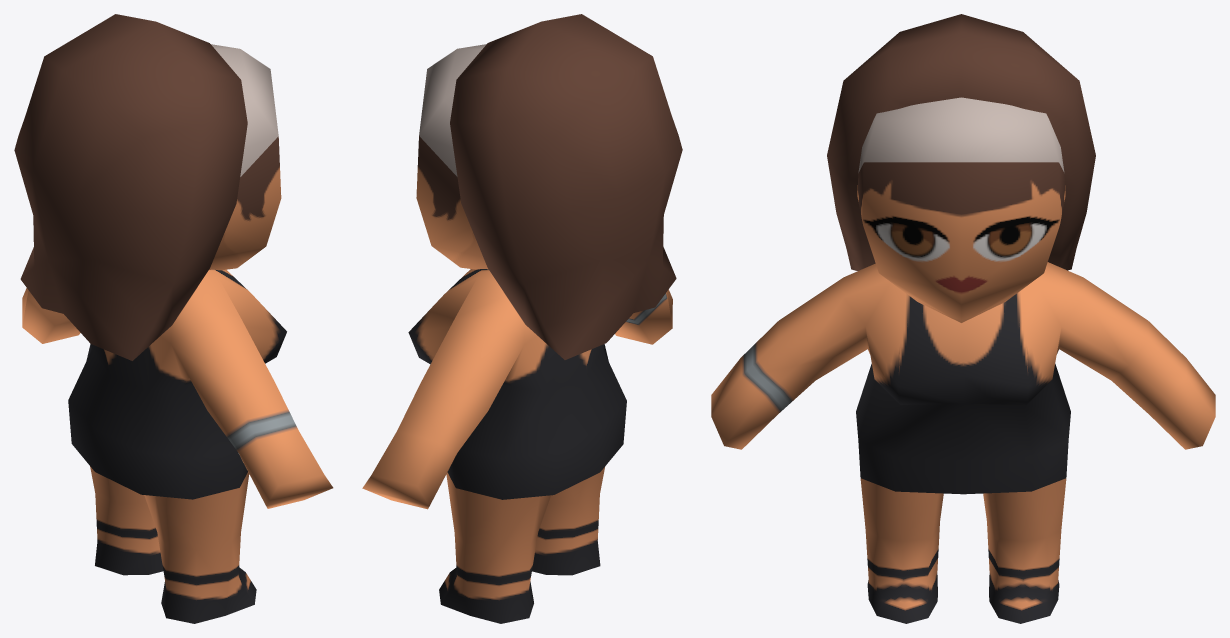
Rendered from Woman.fbx.
3 views of the same model, side by side, from view 1: azimuth 30°, elevation 25°; view 2: azimuth 150°, elevation 25°; view 3: azimuth 270°, elevation 25° (orthographic).
Visible parts, largest first — view 1: f_head_07; view 2: f_head_07; view 3: f_head_07.
Boxes of the visible parts, x1=… form: f_head_07: x1=14, y1=14, x2=333, y2=623; f_head_07: x1=362, y1=14, x2=682, y2=623; f_head_07: x1=711, y1=14, x2=1215, y2=623.
Bounding box in the file's own units: 14.65 × 33.14 × 27.23.
